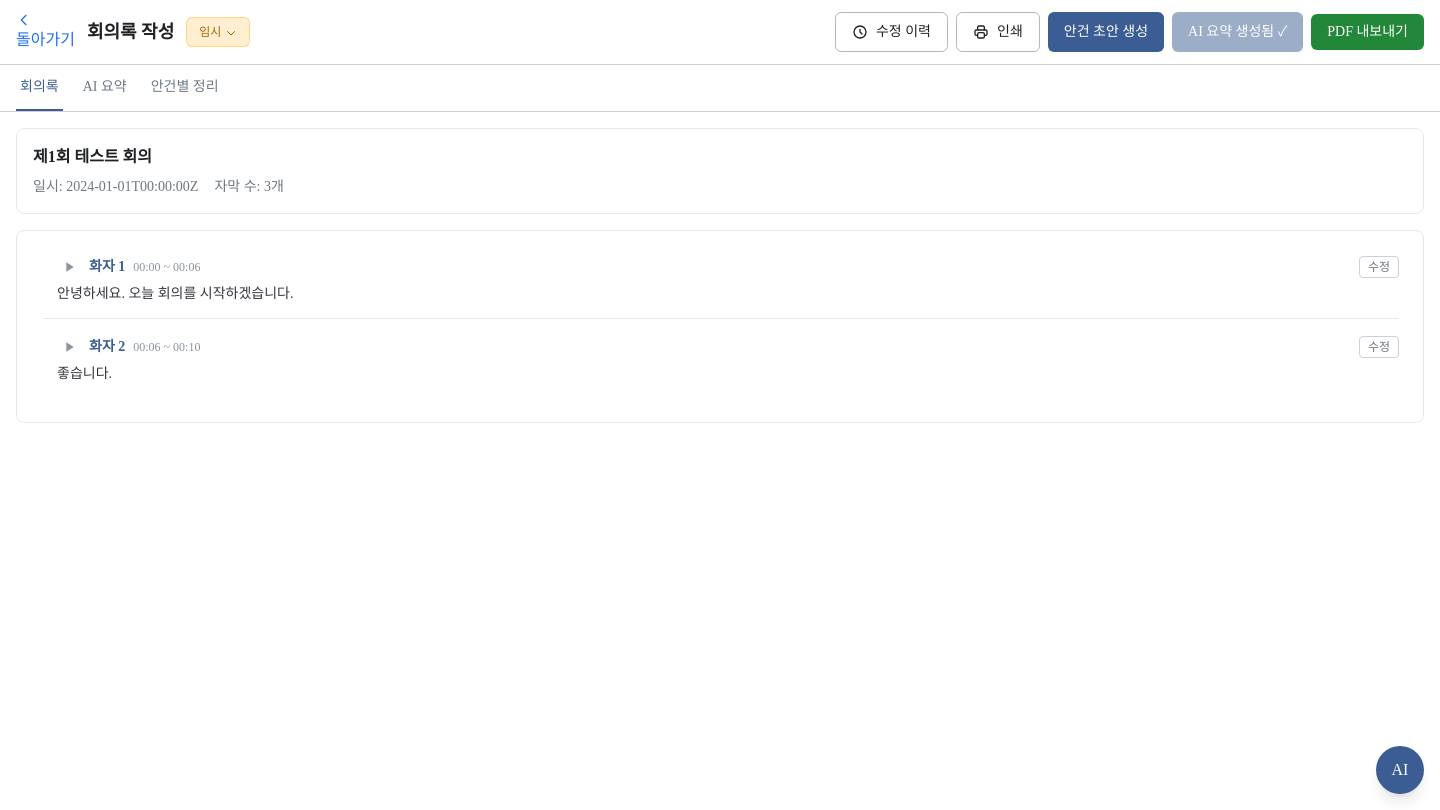
MinutesPage › switches to summary tab
The width and height of the screenshot is (1440, 810).
expect the element with test id "minutes-page" is shown: met, box [0,0,1439,438]
Click the button with test id "tab-summary" at coordinates (105, 88), box [79,65,131,111]
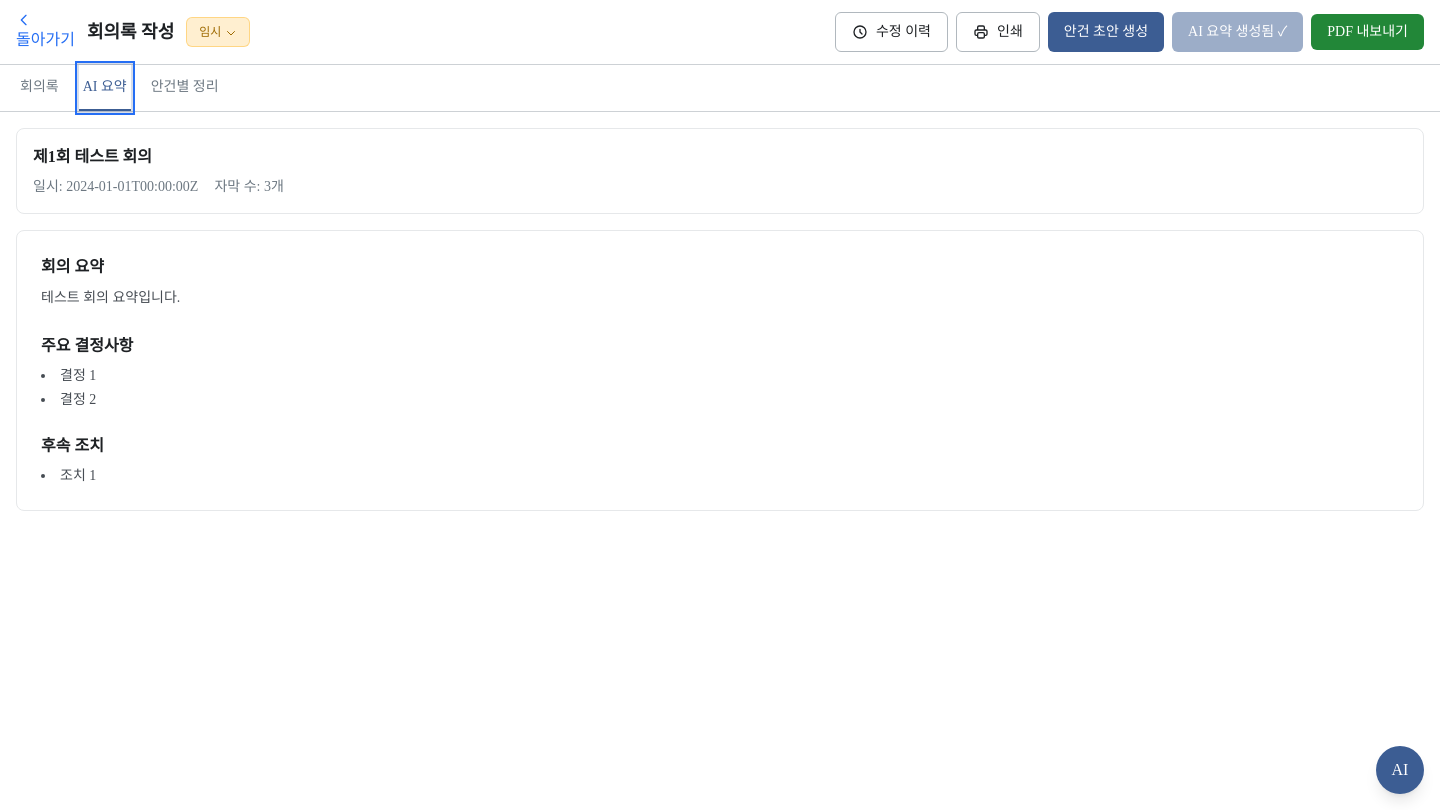
expect the element with test id "summary-content" is shown: met, box [16,230,1424,511]
expect the text "테스트 회의 요약입니다." is shown: met, box [41,290,180,305]
